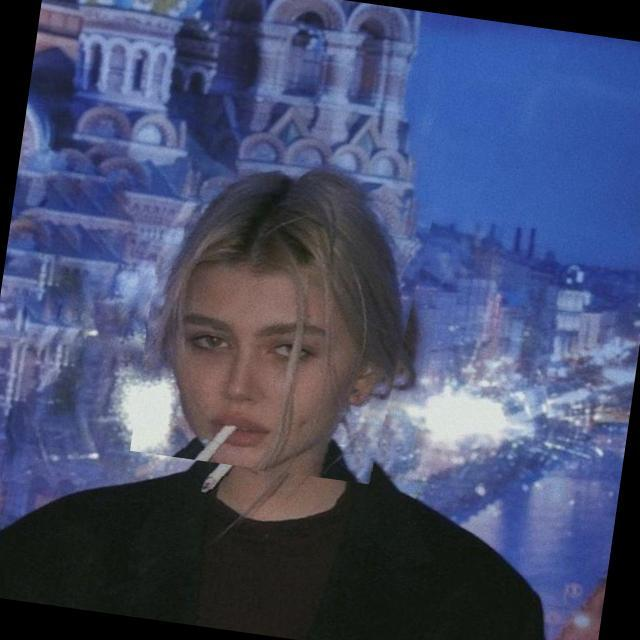cigarette: (192, 403, 266, 504)
